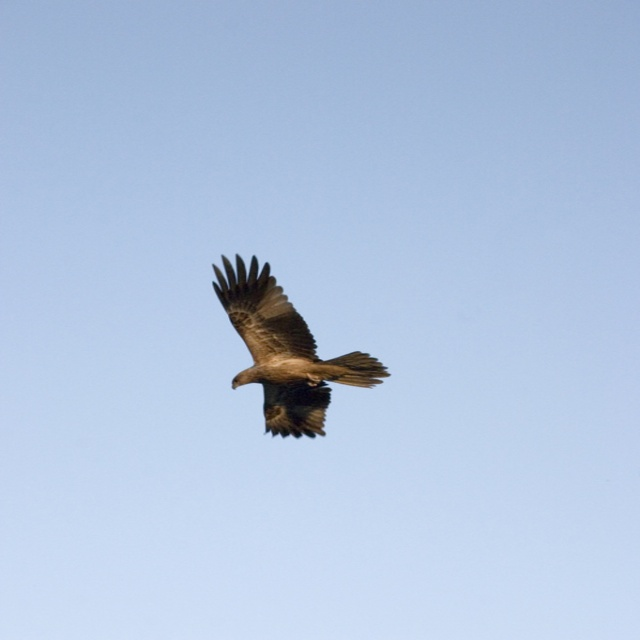Eagle: (203, 247, 395, 443)
